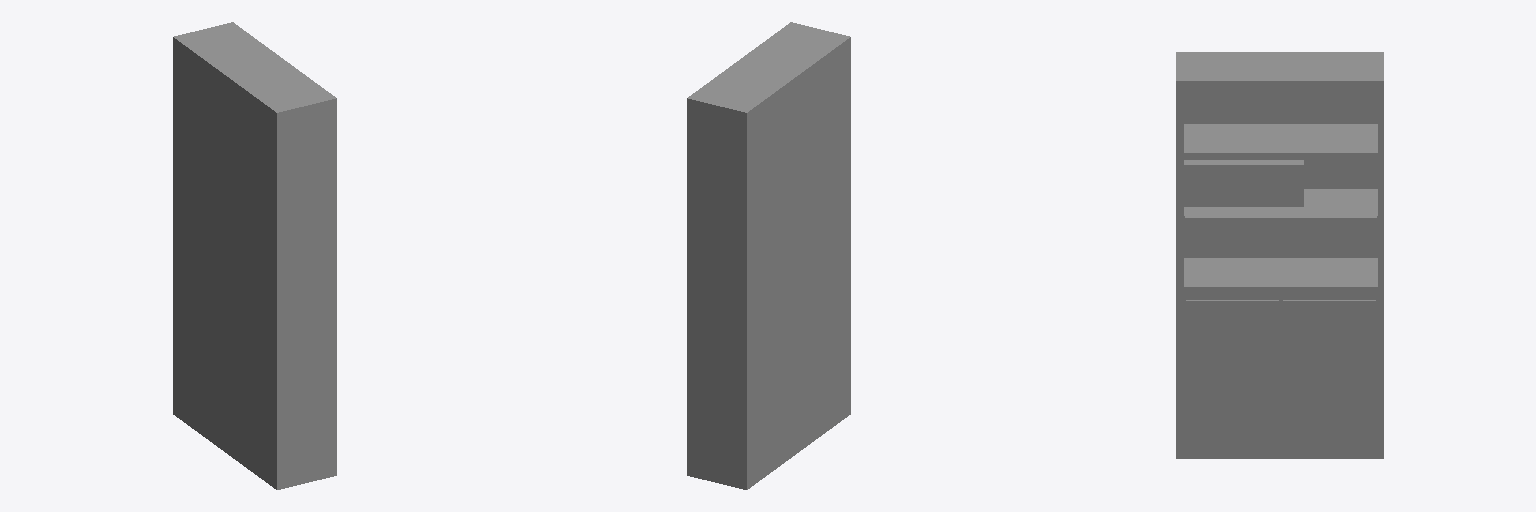
The model's file is Stack_Middle.obj.
3 views of the same model, side by side, from view 1: azimuth 30°, elevation 25°; view 2: azimuth 150°, elevation 25°; view 3: azimuth 270°, elevation 25° (orthographic).
Parts seen in each view (by area): view 1: Shelf_Body_Cube.001; view 2: Shelf_Body_Cube.001; view 3: Shelf_Body_Cube.001, Stack_Middle_Cube.004.
Boxes of the visible parts, box(x1,y1,x2,y2) form: Shelf_Body_Cube.001: box(173, 22, 336, 489); Shelf_Body_Cube.001: box(687, 22, 850, 489); Shelf_Body_Cube.001: box(1176, 52, 1383, 458); Stack_Middle_Cube.004: box(1184, 160, 1303, 206).
Bounding box in the file's own units: 62 × 360 × 180.